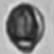correct: (5, 2, 46, 52)
